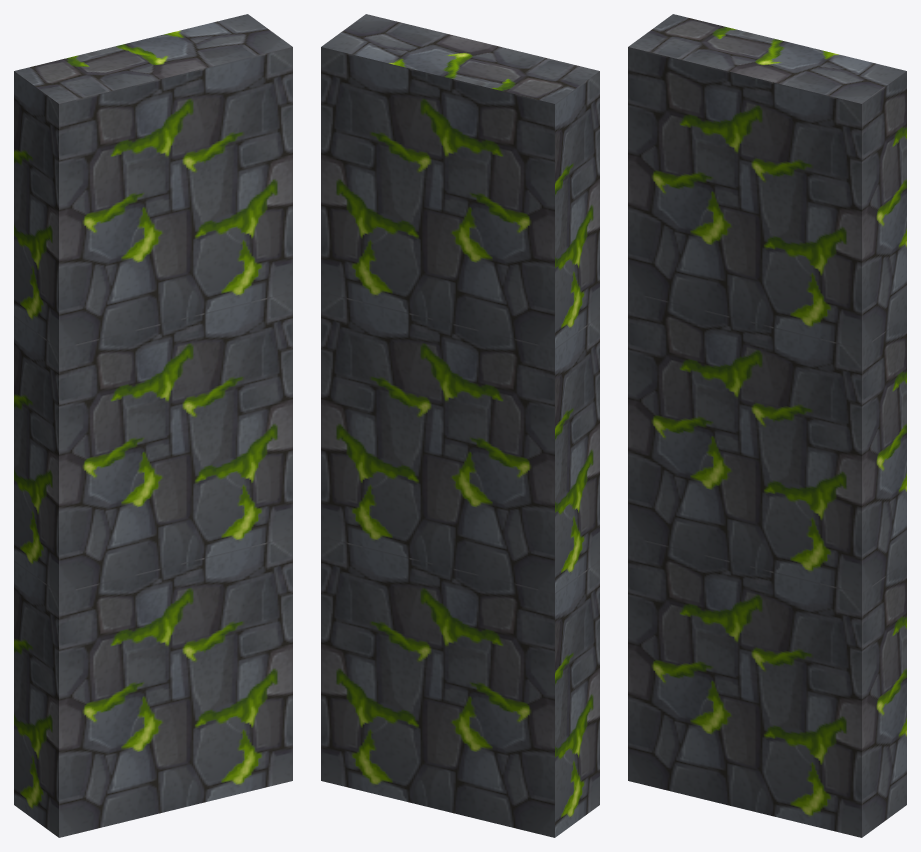
The model's file is wall_moss.fbx.
3 views of the same model, side by side, from view 1: azimuth 30°, elevation 25°; view 2: azimuth 150°, elevation 25°; view 3: azimuth 330°, elevation 25° (orthographic).
Parts seen in each view (by area): view 1: Cube.028; view 2: Cube.028; view 3: Cube.028.
Boxes of the visible parts, x1,y1,x2,y2 form: Cube.028: [14, 14, 292, 837]; Cube.028: [321, 14, 599, 837]; Cube.028: [628, 14, 906, 837].
Size of the model in its own units: 2 by 0.6667 by 6.
